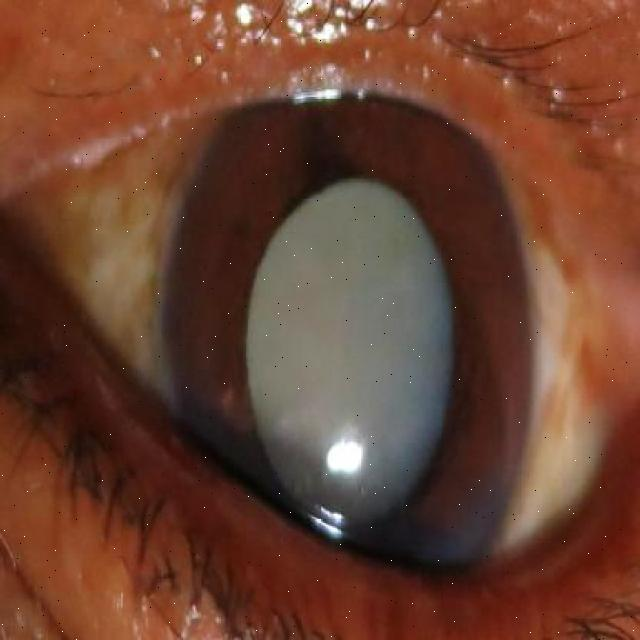Cataract: (162, 76, 537, 615)
